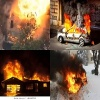fire: (17, 0, 50, 40), (3, 59, 49, 81), (61, 66, 87, 94), (64, 13, 90, 39), (9, 84, 20, 93), (43, 83, 47, 87), (65, 42, 68, 44)
